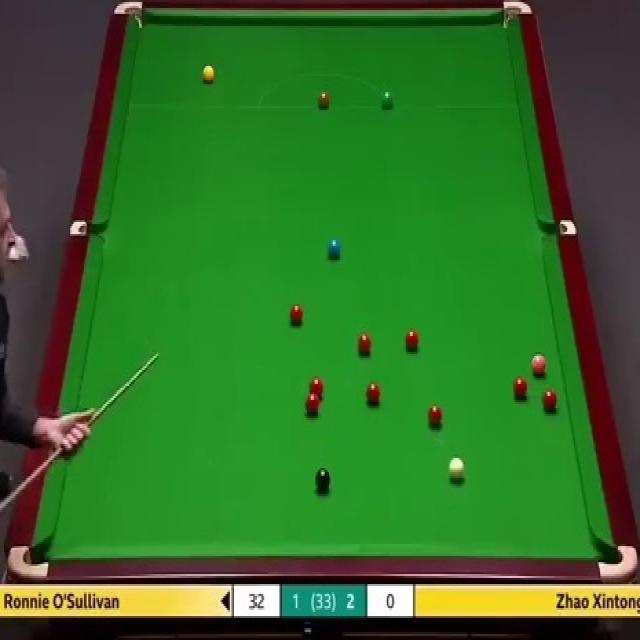black-ball: (314, 466, 332, 494)
blue-ball: (328, 236, 341, 262)
brown-ball: (317, 91, 331, 109)
green-ball: (380, 88, 395, 110)
pink-ball: (530, 354, 548, 374)
red-ball: (428, 404, 442, 432), (365, 382, 380, 406), (357, 333, 372, 357), (542, 388, 558, 410), (406, 328, 420, 352), (512, 376, 528, 397), (308, 378, 323, 398), (289, 303, 303, 324), (306, 391, 318, 414)
white-ball: (449, 454, 466, 482)
yellow-ball: (203, 66, 215, 85)
